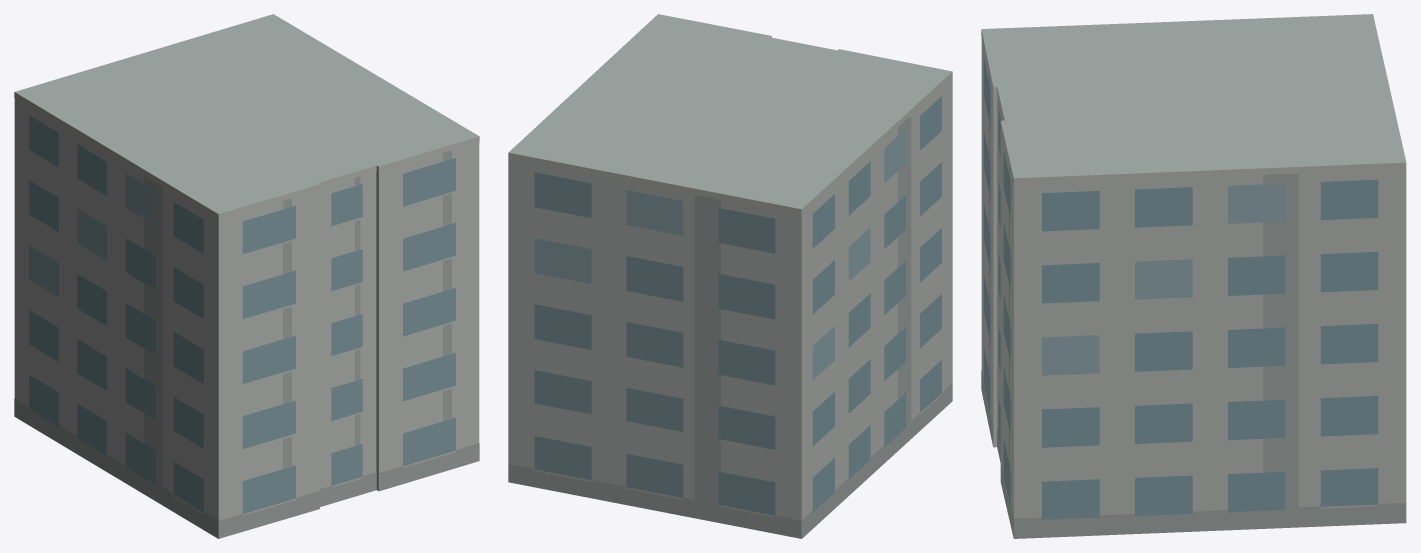
File: survey-upis-32950785.glb
The picture shows the model from 3 angles, left to right: view 1: azimuth 30°, elevation 25°; view 2: azimuth 150°, elevation 25°; view 3: azimuth 270°, elevation 25°; orthographic projection. The views are drawn at different scales.
Parts seen in each view (by area): view 1: survey-upis-32950785.tmp; view 2: survey-upis-32950785.tmp; view 3: survey-upis-32950785.tmp.
Part boxes in pixels (x1,y1,x2,y2): survey-upis-32950785.tmp: [14, 14, 479, 538]; survey-upis-32950785.tmp: [508, 14, 952, 538]; survey-upis-32950785.tmp: [981, 14, 1406, 538].
Bounding box in the file's own units: 12.91 × 13.2 × 14.11.
